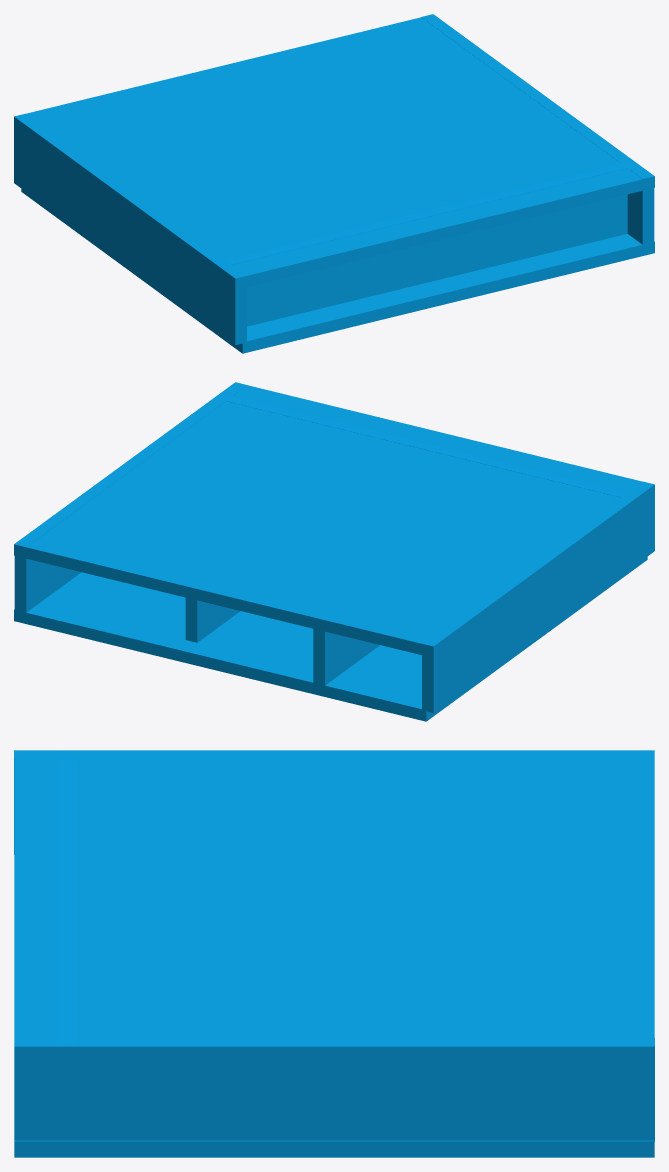
File: vrlaserroomwithbottom.fbx
3 views of the same model, one above another, from view 1: azimuth 30°, elevation 25°; view 2: azimuth 150°, elevation 25°; view 3: azimuth 270°, elevation 25° (orthographic). The views are drawn at different scales.
Visible parts, largest first — view 1: root (×5); view 2: root (×7); view 3: root (×5).
Part boxes in pixels (x1,y1,x2,y2): root (×5): (14, 14, 654, 353); root (×7): (14, 382, 654, 721); root (×5): (14, 750, 654, 1157).
Size of the model in its own units: 3.05 by 0.5342 by 2.79.
3 materials, 1 textured.
